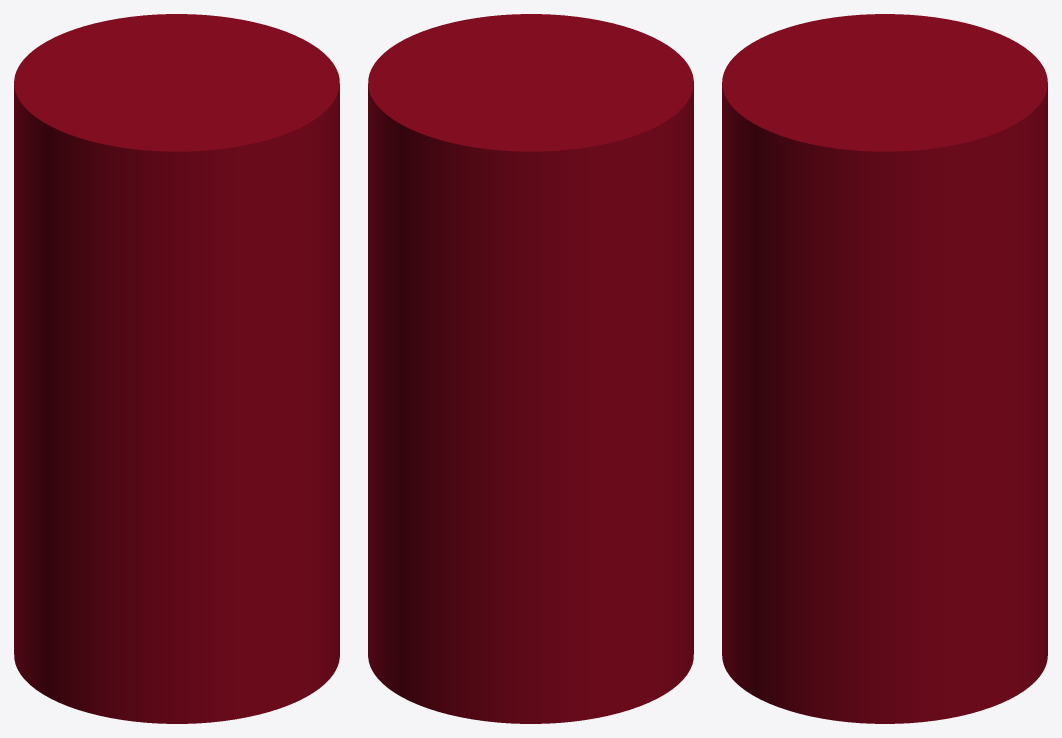
Rendered from cilinder.fbx.
3 renders of one model, left to right at view 1: azimuth 30°, elevation 25°; view 2: azimuth 150°, elevation 25°; view 3: azimuth 270°, elevation 25°, orthographic.
Parts seen in each view (by area): view 1: root; view 2: root; view 3: root.
Part boxes in pixels (bbox=[...]): root: bbox=[14, 14, 339, 723]; root: bbox=[368, 14, 693, 723]; root: bbox=[722, 14, 1047, 723].
Bounding box in the file's own units: 0.2043 × 0.3959 × 0.2043.
1 material, 1 textured.
